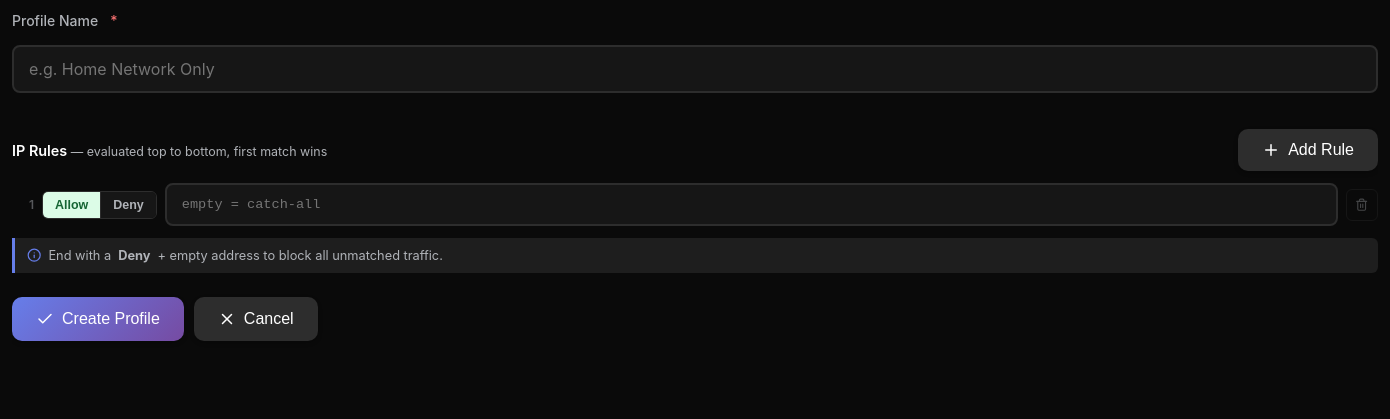
Test: AclProfileForm — form name validation › shows error when saving with empty name
This screenshot has width=1390, height=419.
Click the button "Create Profile".
click(98, 319)  # box [12,297,184,341]
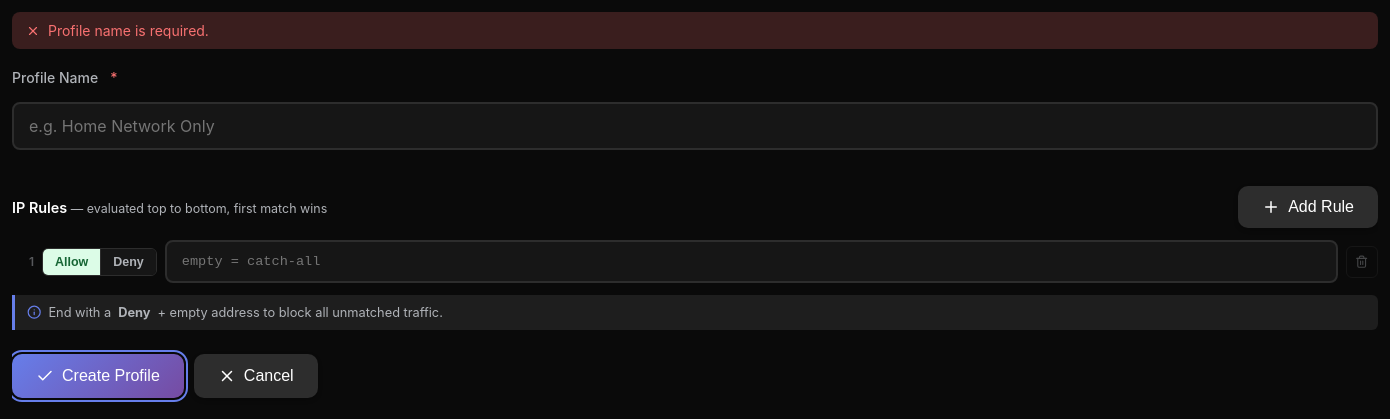
Expected: the message shows "Profile name is required", [48,22,209,39]
